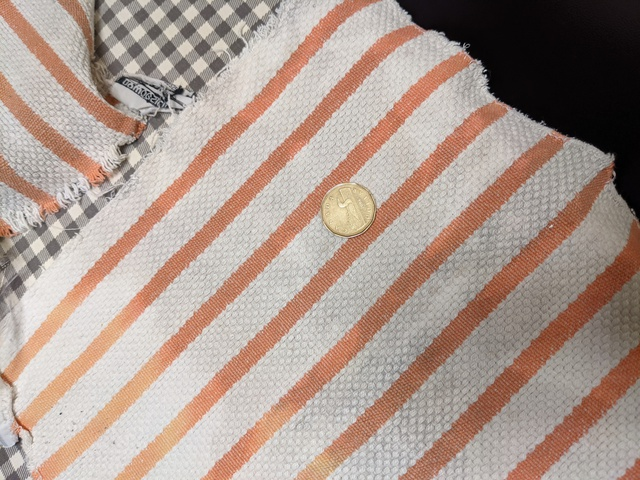loonie: (312, 176, 387, 246)
